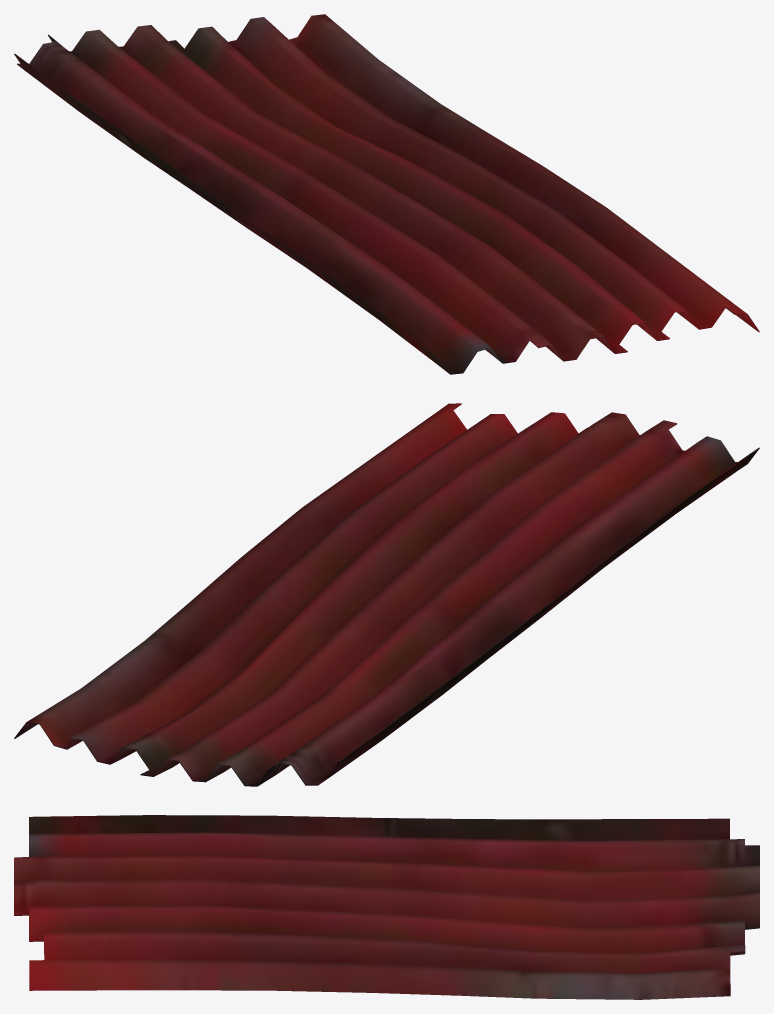
File: Metal_Sheet_01.glb
The picture shows the model from 3 angles, top to bottom: view 1: azimuth 30°, elevation 25°; view 2: azimuth 150°, elevation 25°; view 3: azimuth 270°, elevation 25°; orthographic projection. The views are drawn at different scales.
Parts seen in each view (by area): view 1: Metal_Sheet_01; view 2: Metal_Sheet_01; view 3: Metal_Sheet_01.
Boxes of the visible parts, x1=… form: Metal_Sheet_01: x1=14, y1=14, x2=759, y2=374; Metal_Sheet_01: x1=14, y1=403, x2=759, y2=786; Metal_Sheet_01: x1=14, y1=815, x2=759, y2=999.
Size of the model in its own units: 0.9818 by 0.1956 by 2.34.
Materials: 1 (1 with a texture image).
